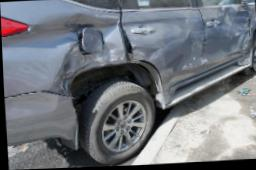Bumper: (2, 64, 91, 166)
Door: (120, 8, 214, 90)
Fender: (43, 0, 126, 93)
